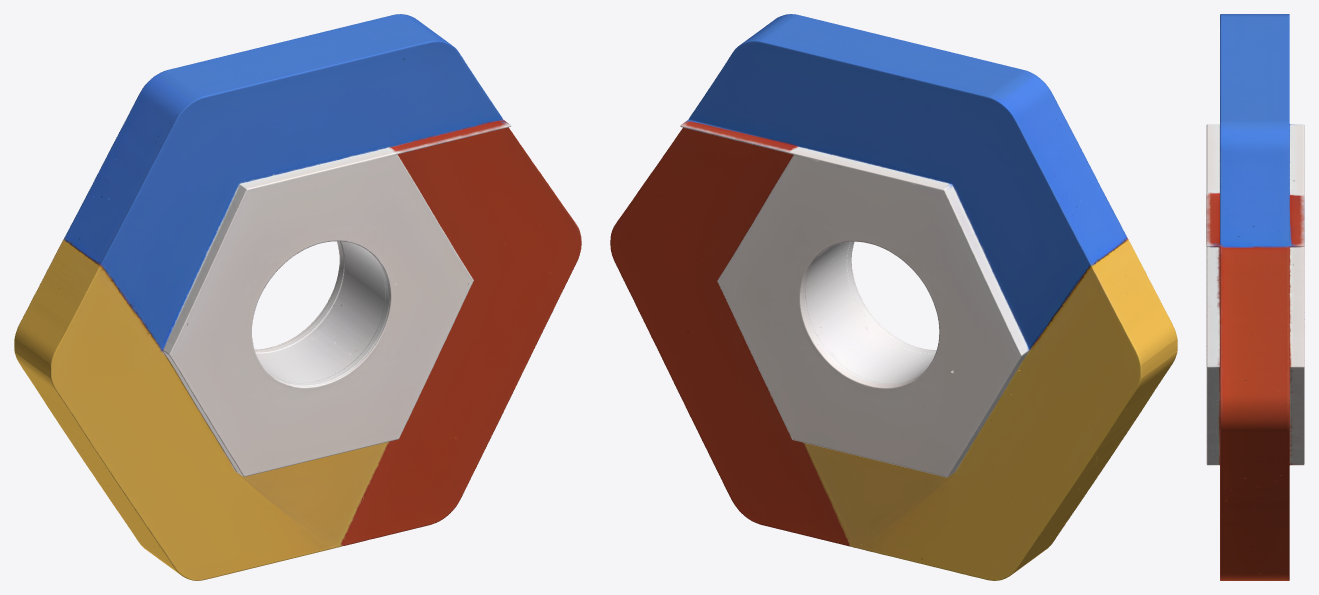
The model's file is gcloud.glb.
3 renders of one model, left to right at view 1: azimuth 30°, elevation 25°; view 2: azimuth 150°, elevation 25°; view 3: azimuth 270°, elevation 25°, orthographic. The views are drawn at different scales.
Parts seen in each view (by area): view 1: material.001; view 2: material.001; view 3: material.001.
Boxes of the visible parts, x1=… form: material.001: x1=14, y1=14, x2=581, y2=580; material.001: x1=610, y1=14, x2=1177, y2=580; material.001: x1=1206, y1=14, x2=1304, y2=580.
Bounding box in the file's own units: 1.19 × 1.04 × 0.2019.
Materials: 1 (1 with a texture image).
